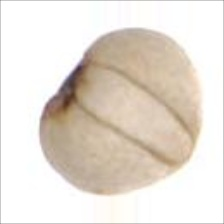L5: (70, 58, 195, 168), (40, 44, 95, 119), (163, 111, 200, 180)
L6: (35, 24, 205, 197)
